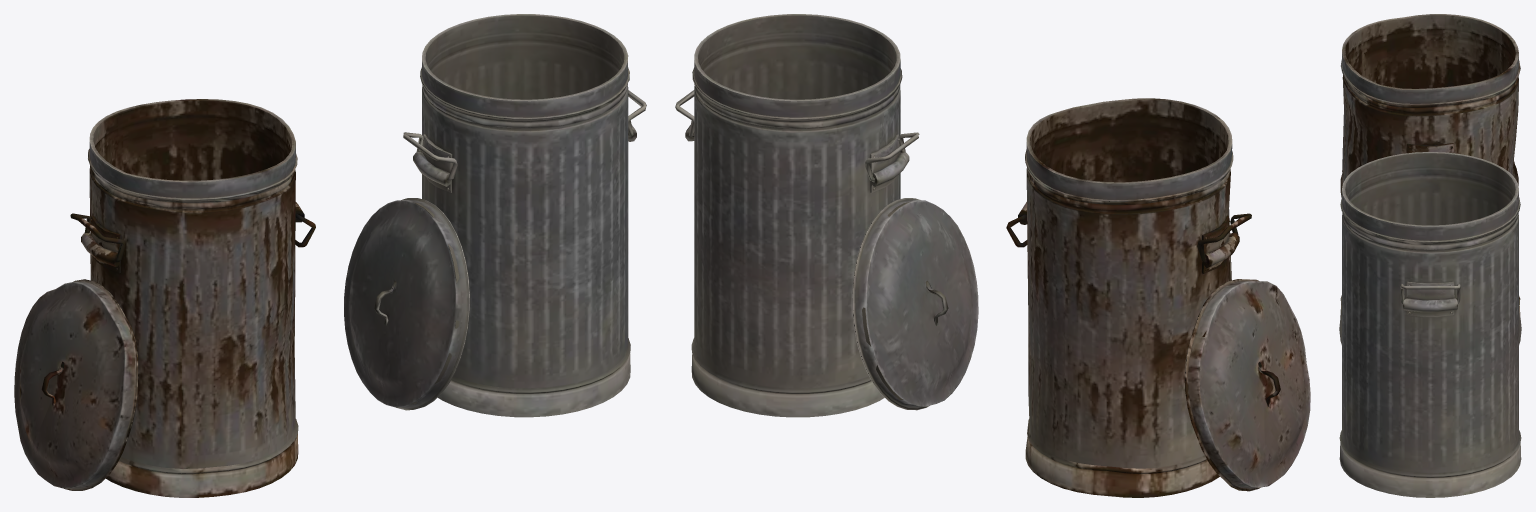
File: metal_trash_can.glb
3 renders of one model, left to right at view 1: azimuth 30°, elevation 25°; view 2: azimuth 150°, elevation 25°; view 3: azimuth 270°, elevation 25°, orthographic. The views are drawn at different scales.
Parts seen in each view (by area): view 1: metal_trash_can_handle_left, metal_trash_can_rust; view 2: metal_trash_can_handle_left, metal_trash_can_rust; view 3: metal_trash_can_handle_left, metal_trash_can_rust.
Boxes of the visible parts, box(x1,y1,x2,y2) form: metal_trash_can_handle_left: box(344, 14, 646, 417); metal_trash_can_rust: box(14, 99, 315, 497); metal_trash_can_handle_left: box(675, 14, 978, 417); metal_trash_can_rust: box(1006, 98, 1310, 497); metal_trash_can_handle_left: box(1339, 152, 1521, 497); metal_trash_can_rust: box(1340, 14, 1520, 317).
Bounding box in the file's own units: 1.78 × 0.9062 × 0.5543.
Materials: 2 (2 with a texture image).
